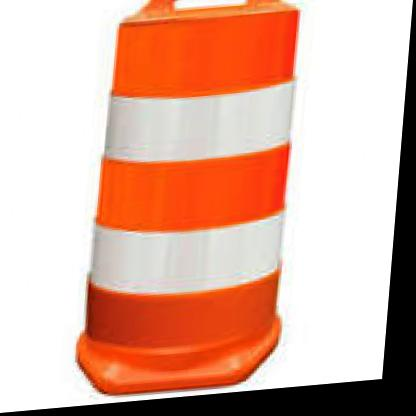obstacle: (50, 0, 312, 398)
